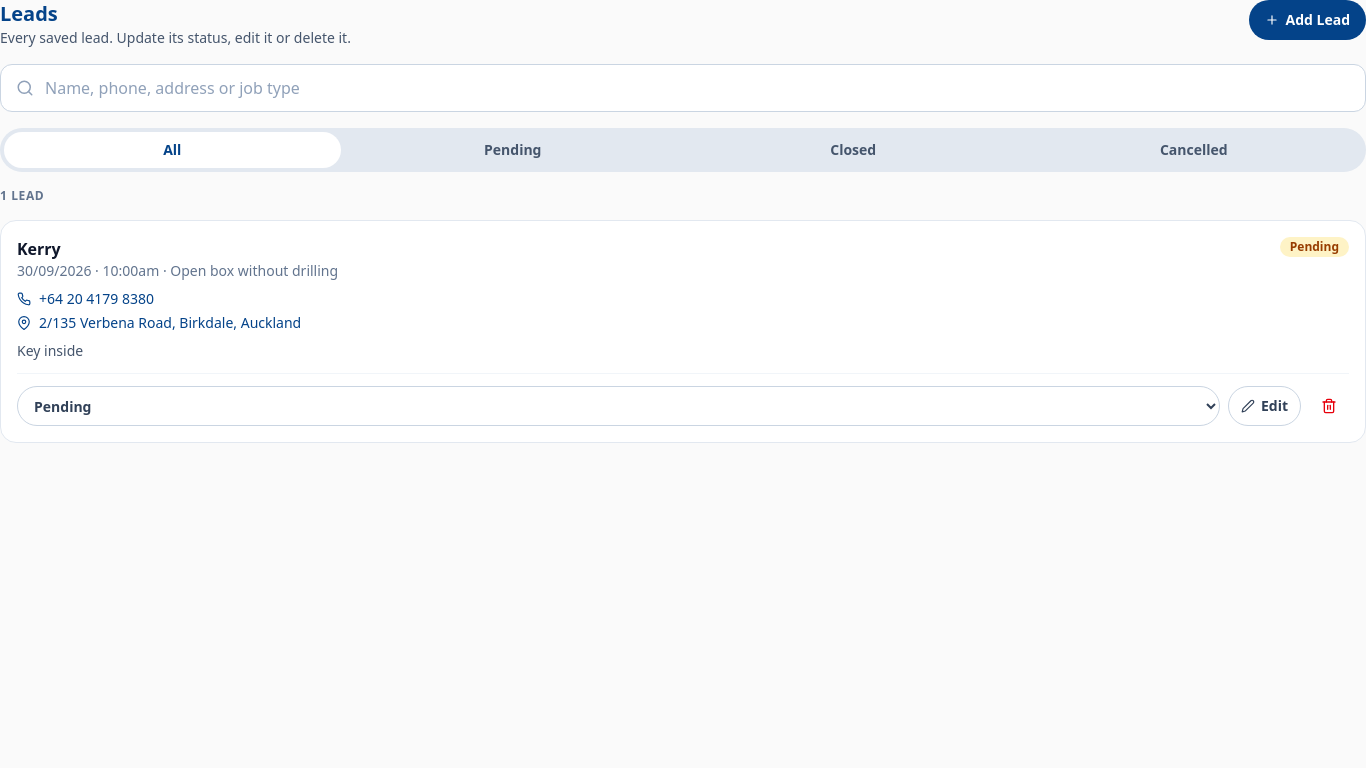
Test case: LeadHistory › leaves the status alone when the dialog is dismissed
Select "Closed" in the dropdown named "Status for Kerry" at (618, 406), box [17,386,1220,426]
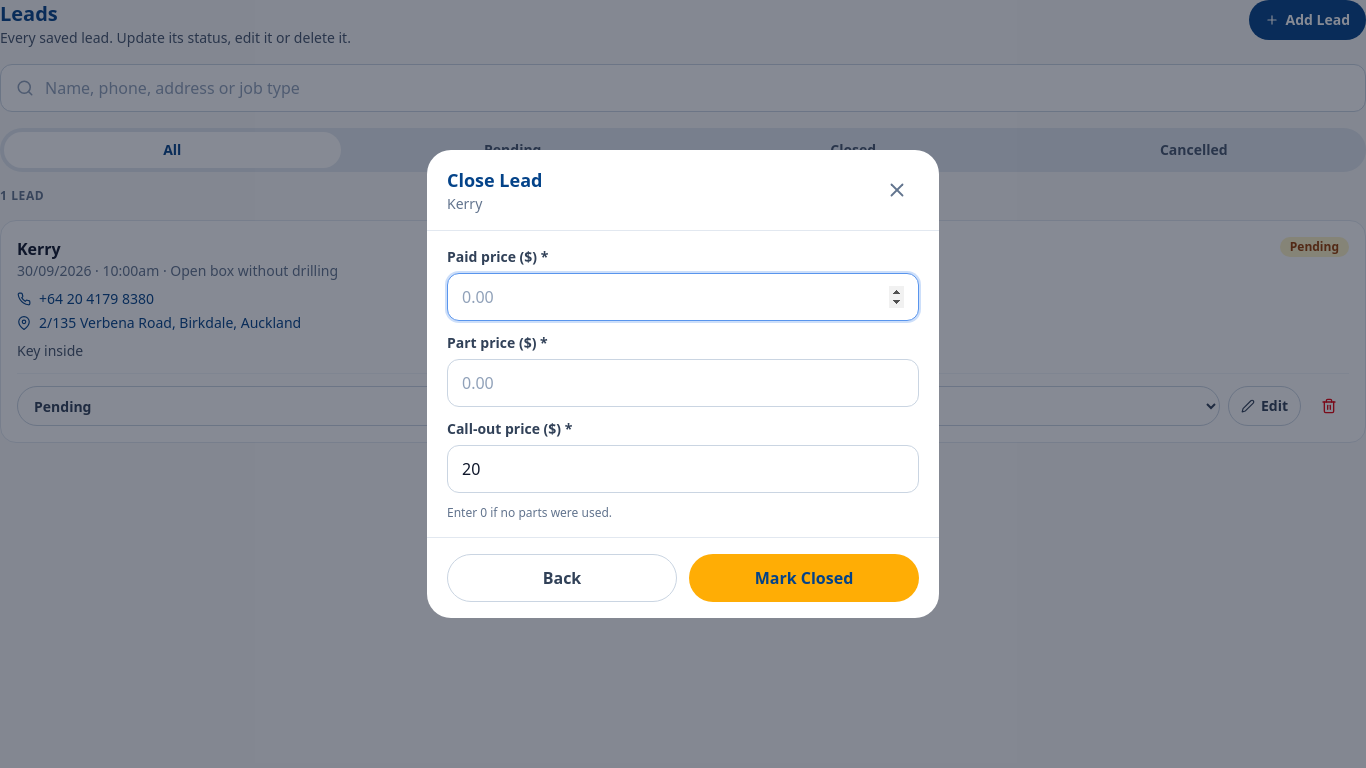
Press Escape
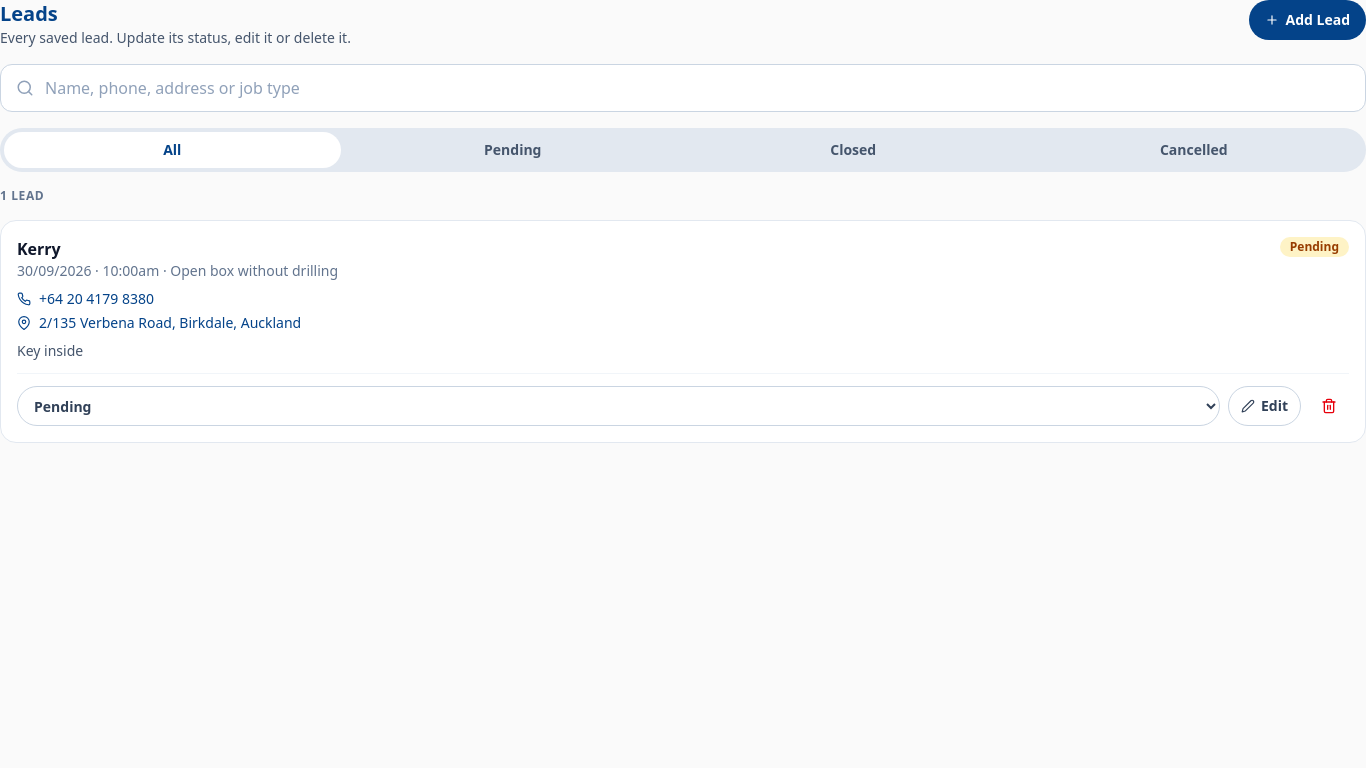
expect the dialog is gone: met
